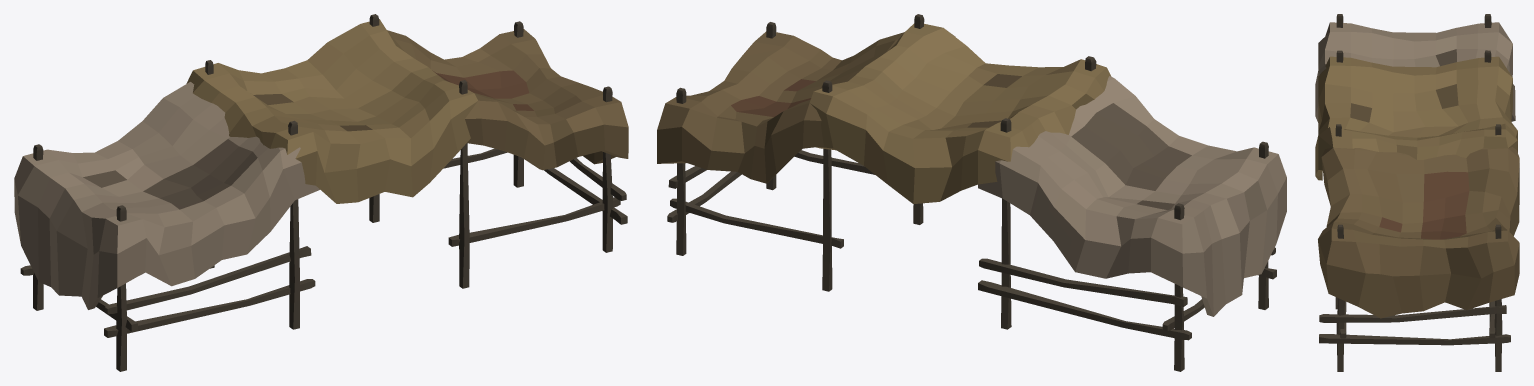
Rendered from SM_Bld_Tent_04.glb.
The picture shows the model from 3 angles, left to right: view 1: azimuth 30°, elevation 25°; view 2: azimuth 150°, elevation 25°; view 3: azimuth 270°, elevation 25°; orthographic projection. The views are drawn at different scales.
Parts seen in each view (by area): view 1: SM_Bld_Tent_04; view 2: SM_Bld_Tent_04; view 3: SM_Bld_Tent_04.
Boxes of the visible parts, <box> form: SM_Bld_Tent_04: <box>14,14,628,371</box>; SM_Bld_Tent_04: <box>657,14,1286,371</box>; SM_Bld_Tent_04: <box>1315,14,1519,371</box>.
Bounding box in the file's own units: 0.0759 × 0.028 × 0.0285.
